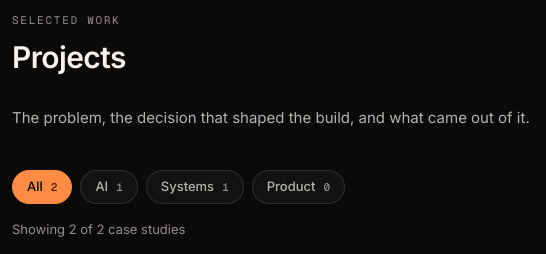
Test: Projects › says so when a category is empty rather than rendering a void
This screenshot has width=546, height=254.
Click the button "Product 0". click: {"x": 298, "y": 187}
box: [252,170,345,204]
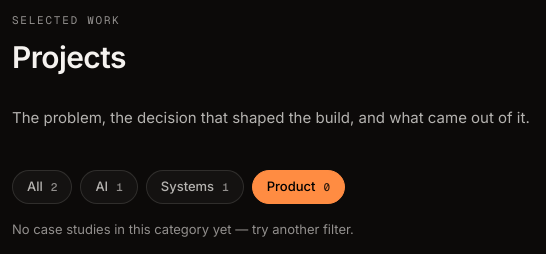
Result: the message shows "No case studies" at [12,221,354,237]
